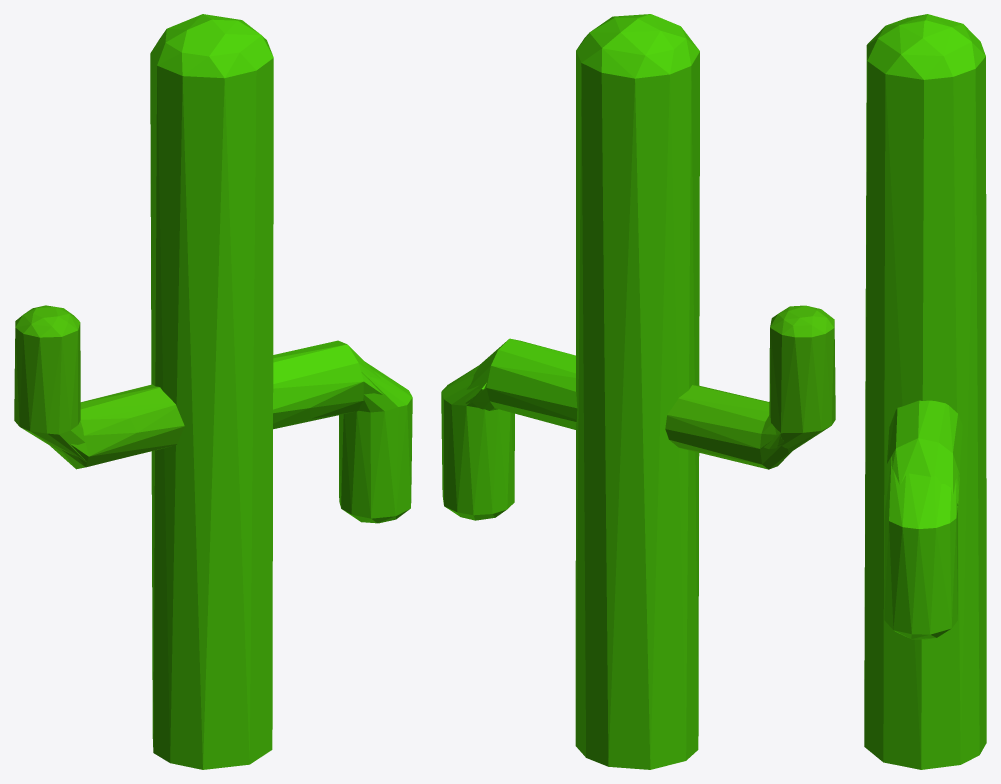
The model's file is Cactus 3.fbx.
3 renders of one model, left to right at view 1: azimuth 30°, elevation 25°; view 2: azimuth 150°, elevation 25°; view 3: azimuth 270°, elevation 25°, orthographic.
Parts seen in each view (by area): view 1: Cylinder, Cylinder.002, Cylinder.001; view 2: Cylinder, Cylinder.002, Cylinder.001; view 3: Cylinder, Cylinder.002.
Boxes of the visible parts, left/top/right/bottom form: Cylinder: left=150, top=14, right=273, bottom=769; Cylinder.002: left=273, top=340, right=412, bottom=523; Cylinder.001: left=14, top=305, right=184, bottom=469; Cylinder: left=575, top=14, right=699, bottom=769; Cylinder.002: left=441, top=338, right=577, bottom=520; Cylinder.001: left=665, top=305, right=835, bottom=469; Cylinder: left=864, top=14, right=986, bottom=769; Cylinder.002: left=884, top=400, right=962, bottom=639.
Size of the model in its own units: 357 by 639 by 98.21.
